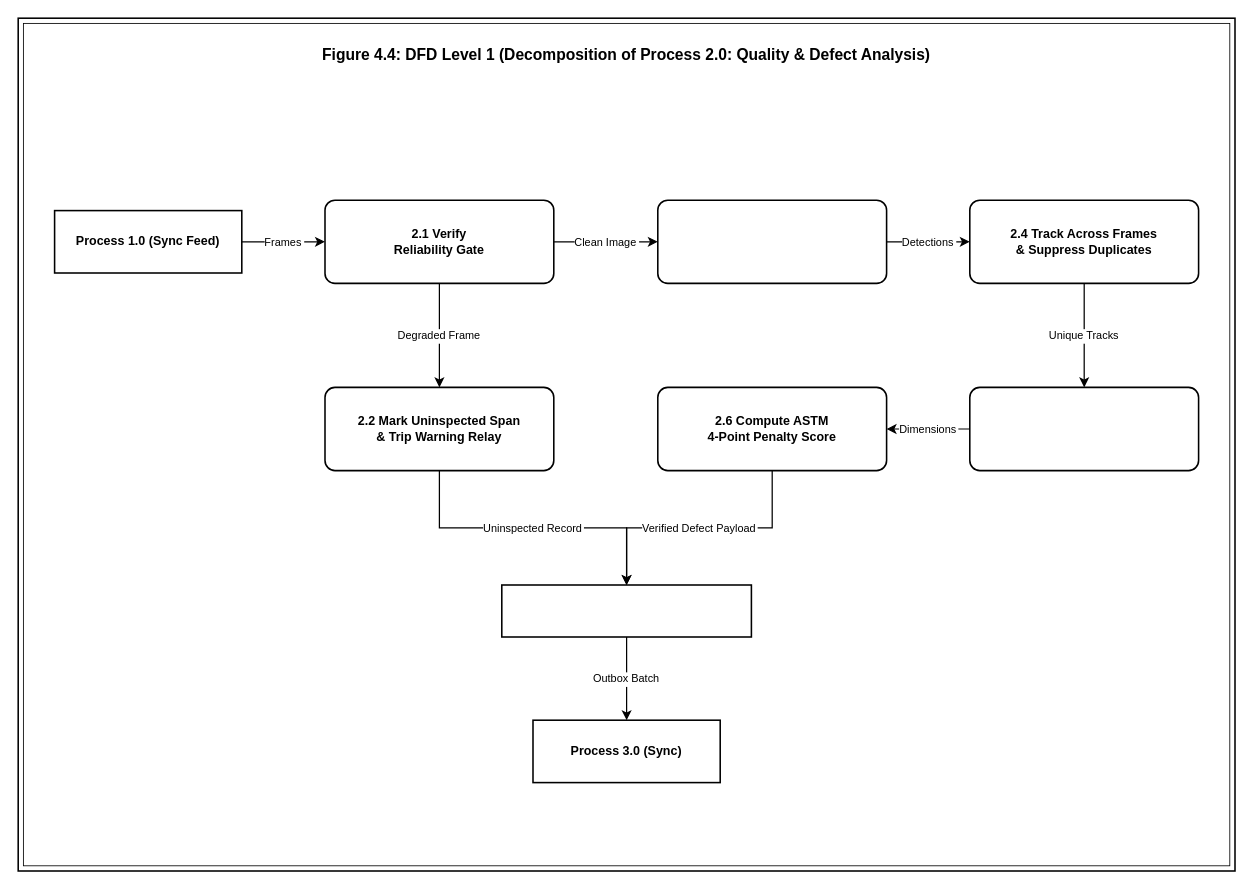
The diagram is 1254 pixels wide and 890 high, and some of its shapes have lost their labels. The box of each missing label's shape, as (x1, y1, x2, y2) in pixels:
2.3 Run AI Defect Detection: (657, 199, 887, 284)
2.5 Map Coordinates (X lateral, Y longitudinal): (969, 386, 1199, 471)
D1: Local SQLite Outbox: (501, 584, 752, 637)
